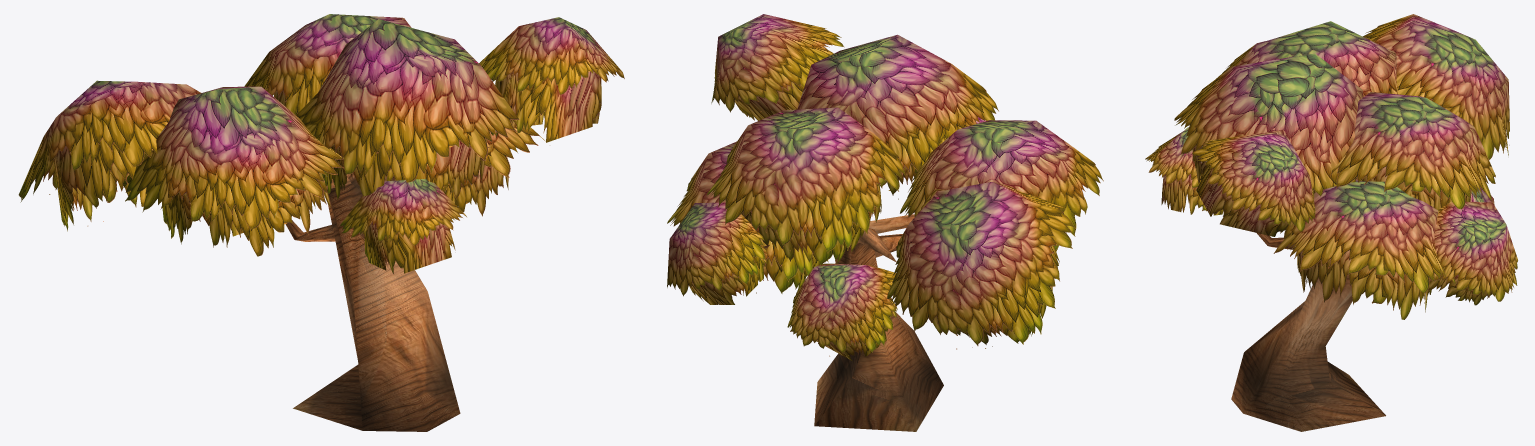
Rendered from arbolmaya.fbx.
The picture shows the model from 3 angles, left to right: view 1: azimuth 30°, elevation 25°; view 2: azimuth 150°, elevation 25°; view 3: azimuth 270°, elevation 25°; orthographic projection. The views are drawn at different scales.
Parts seen in each view (by area): view 1: arbol2objB; view 2: arbol2objB; view 3: arbol2objB.
Part boxes in pixels (left/top/right/bottom): arbol2objB: left=18, top=14, right=624, bottom=431; arbol2objB: left=667, top=14, right=1103, bottom=431; arbol2objB: left=1145, top=14, right=1517, bottom=431.
Size of the model in its own units: 495 by 395 by 372.
Materials: 1 (1 with a texture image).
